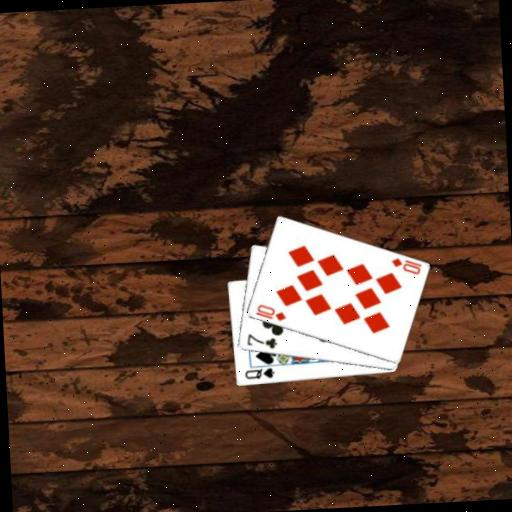10D: (388, 254, 424, 278), (252, 300, 287, 324)
7C: (243, 330, 278, 352)
QS: (241, 365, 276, 382)
